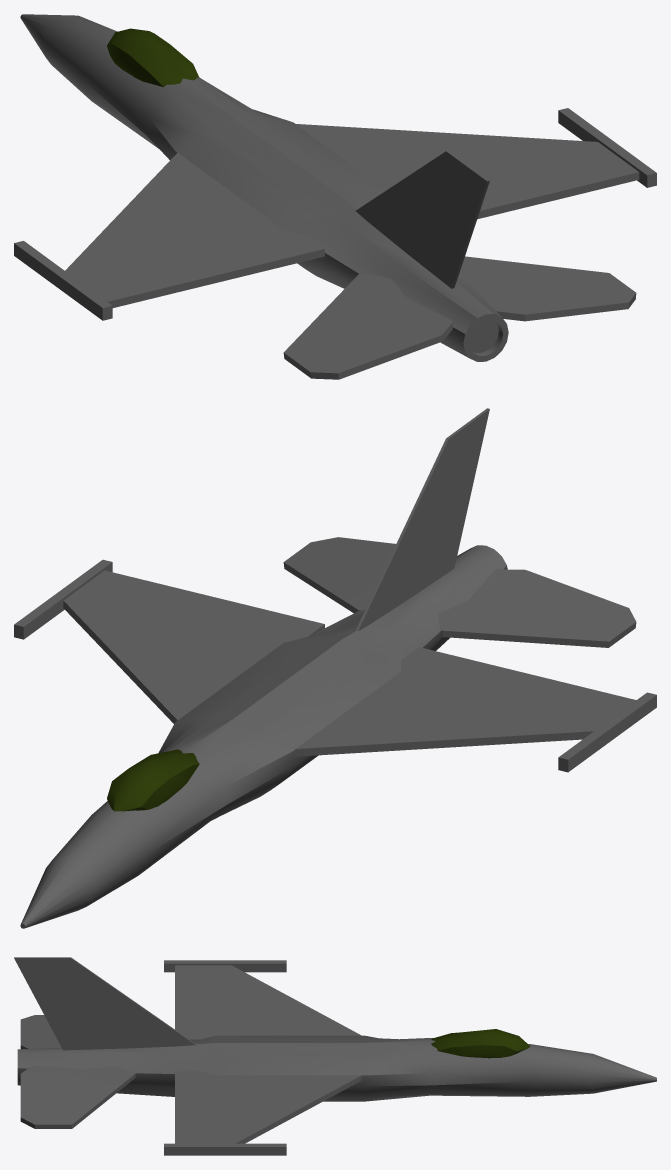
Rendered from jet.glb.
The picture shows the model from 3 angles, top to bottom: view 1: azimuth 30°, elevation 25°; view 2: azimuth 150°, elevation 25°; view 3: azimuth 270°, elevation 25°; orthographic projection. The views are drawn at different scales.
Visible parts, largest first — view 1: Cylinder; view 2: Cylinder; view 3: Cylinder.
Boxes of the visible parts, x1,y1,x2,y2 form: Cylinder: (14,14,656,379); Cylinder: (14,408,656,928); Cylinder: (14,957,656,1155).
Size of the model in its own units: 10.36 by 3.54 by 15.08.
